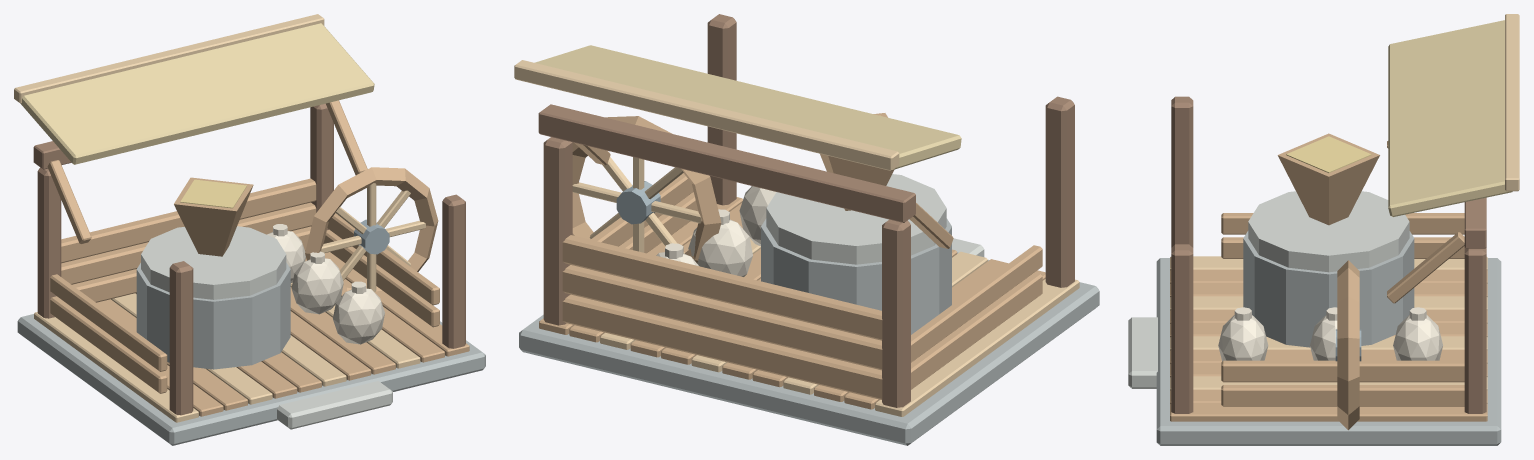
Rendered from mill.fbx.
3 views of the same model, side by side, from view 1: azimuth 30°, elevation 25°; view 2: azimuth 150°, elevation 25°; view 3: azimuth 270°, elevation 25° (orthographic). The views are drawn at different scales.
Visible parts, largest first — view 1: mill_mesh; view 2: mill_mesh; view 3: mill_mesh.
Part boxes in pixels (box(x1,y1,x2,y2)): mill_mesh: box(14, 14, 485, 445); mill_mesh: box(514, 14, 1099, 445); mill_mesh: box(1128, 14, 1519, 445).
Size of the model in its own units: 3.71 by 2.4 by 3.2.
